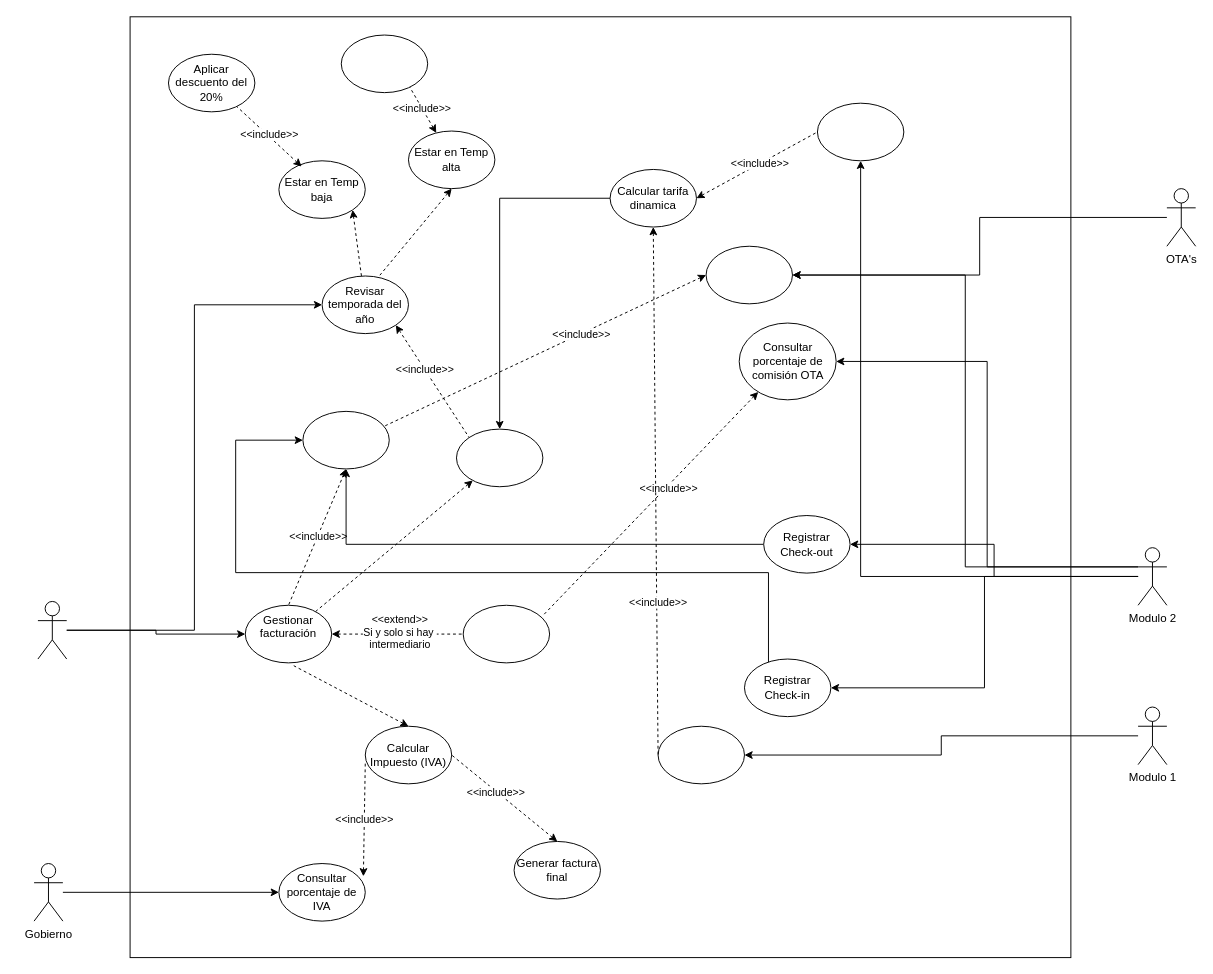
Image size: 1213x974. Some labels were removed from this diagram. Here are the shapes that lost their labels. From the top down, the box of each, then its label:
(340, 34, 428, 93): Aplicar aumento del 20%
(816, 102, 904, 161): Consultar tarfia dinamica
(705, 245, 792, 304): Consultar liquidacion
(302, 410, 389, 469): Generar liquidacion
(456, 428, 543, 487): Aplicar tarifa dinámica
(37, 600, 67, 659): Administrador
(462, 604, 550, 663): Descontar comisión (OTA)
(657, 725, 744, 784): Consultar tarifa base
